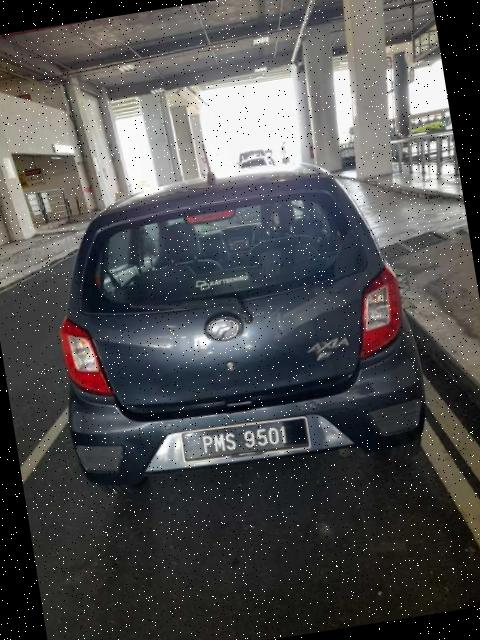License_Plate: (181, 412, 313, 467)
car: (33, 143, 436, 503)
